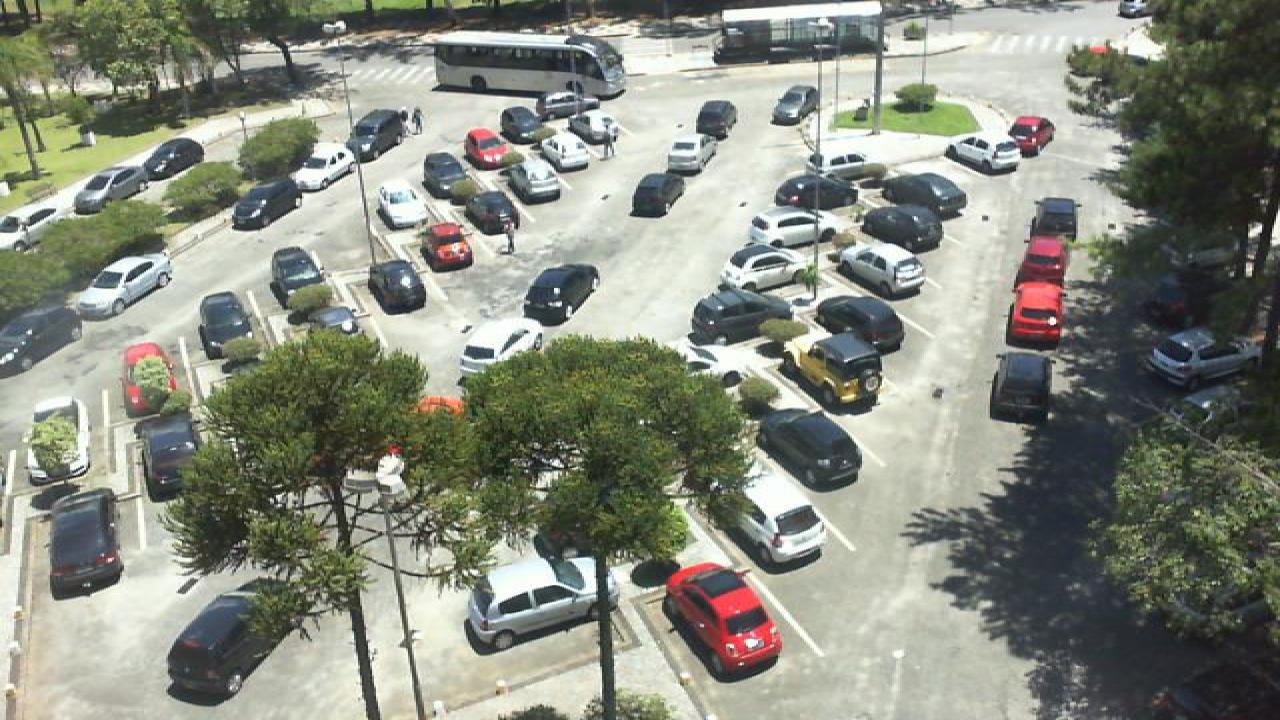Car: (464, 543, 618, 652), (160, 594, 290, 703), (666, 564, 782, 681), (38, 487, 120, 597), (754, 411, 860, 488), (736, 482, 826, 564), (786, 333, 884, 406), (1146, 325, 1256, 388), (70, 254, 172, 318), (20, 396, 90, 486), (456, 318, 542, 386), (0, 304, 80, 376), (138, 412, 204, 497), (692, 287, 792, 343), (836, 242, 926, 299), (818, 294, 906, 352), (520, 262, 598, 326), (986, 350, 1054, 422), (198, 292, 260, 366), (714, 242, 810, 289), (120, 341, 180, 415), (880, 170, 970, 219), (858, 204, 942, 253), (1006, 279, 1068, 344), (268, 246, 326, 310), (774, 172, 860, 215), (746, 209, 836, 250), (228, 180, 304, 228), (288, 140, 358, 190), (368, 186, 432, 238), (70, 168, 144, 212), (368, 260, 428, 313), (0, 208, 74, 250), (944, 133, 1022, 172), (136, 137, 204, 180), (818, 150, 900, 185), (350, 108, 406, 158), (418, 223, 476, 271), (460, 190, 520, 234), (628, 172, 686, 217), (506, 158, 564, 202), (1016, 236, 1068, 285), (420, 152, 472, 200), (462, 127, 516, 170), (528, 135, 588, 172), (1030, 196, 1080, 240), (666, 130, 716, 174), (564, 106, 620, 144), (1004, 114, 1054, 155), (772, 84, 822, 124), (538, 90, 602, 117), (696, 99, 738, 139), (498, 108, 544, 144)
